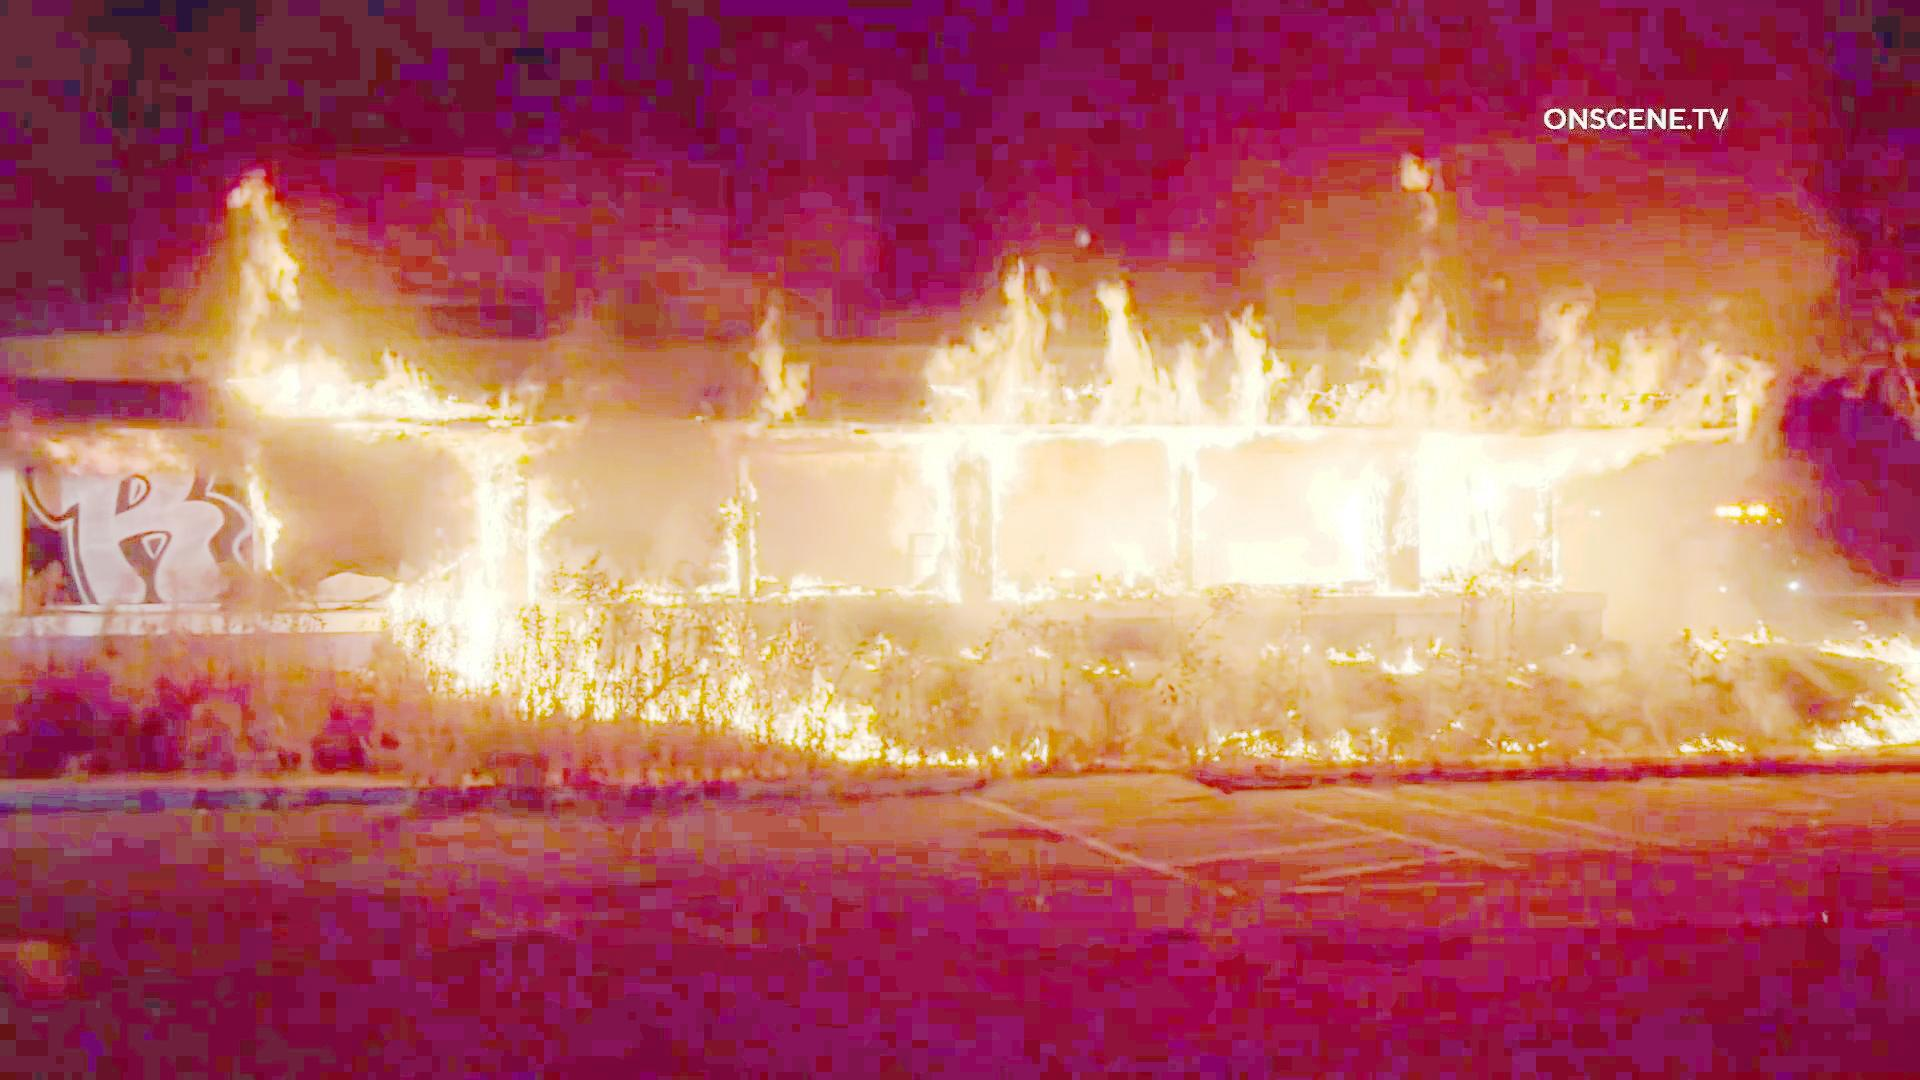fire: (1065, 326, 1771, 572), (237, 164, 431, 418), (928, 273, 1065, 518)
